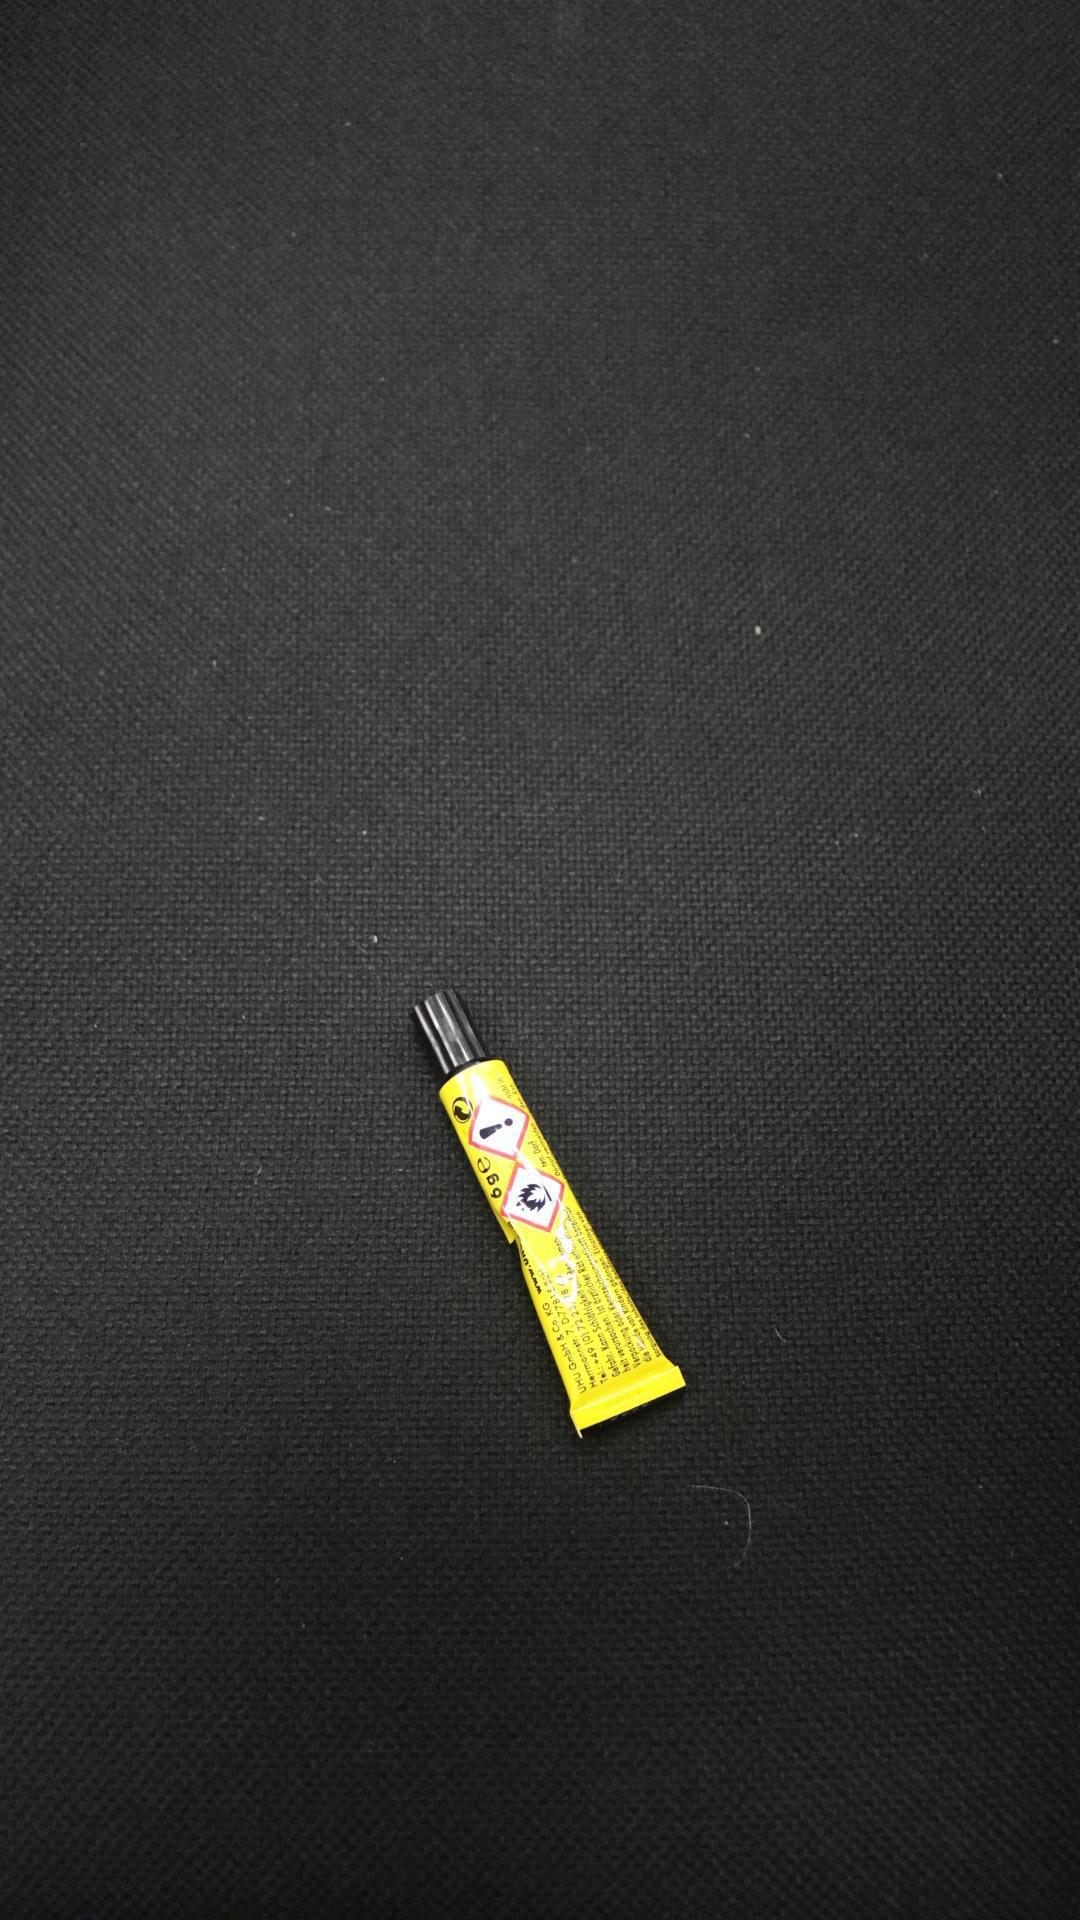Head: (446, 1025, 452, 1034)
Tail: (620, 1397, 628, 1406)
Tube: (408, 987, 688, 1438)
